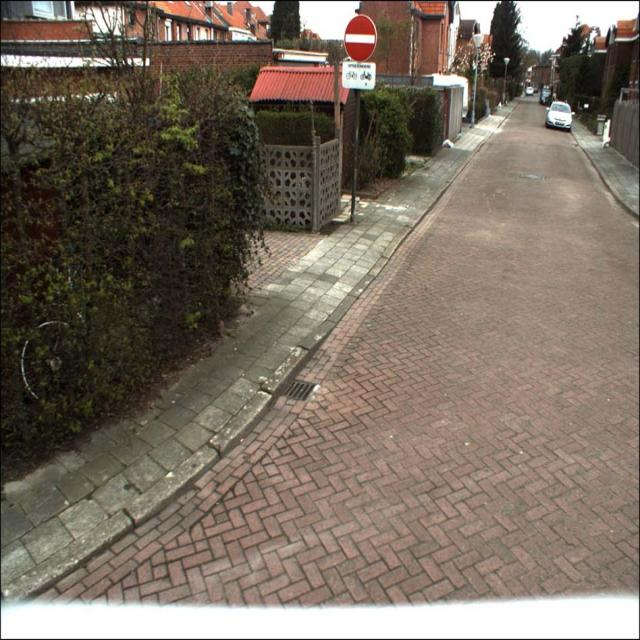girisyok: (344, 15, 376, 61)
